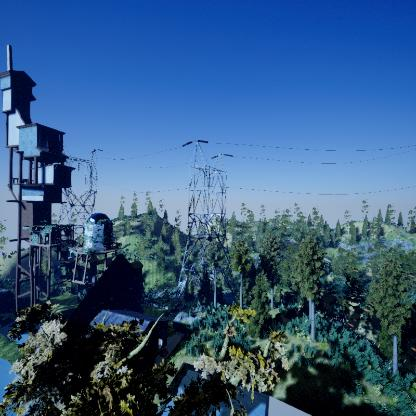tower: (181, 137, 237, 307)
